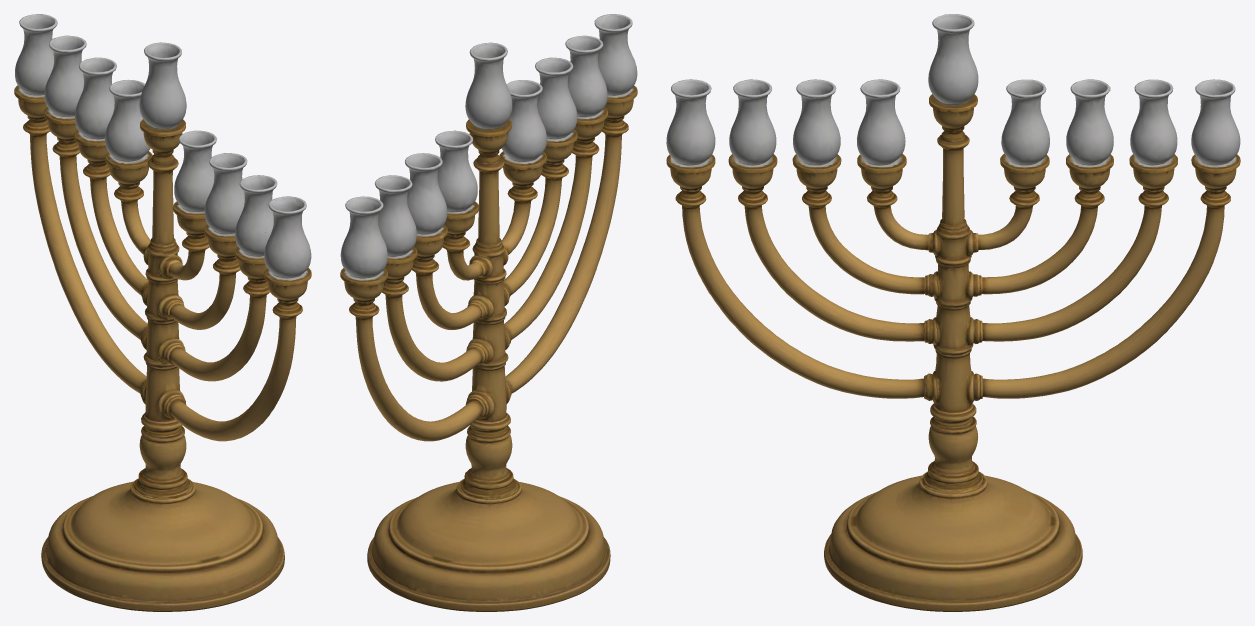
Rendered from lt_menorah_b.glb.
3 views of the same model, side by side, from view 1: azimuth 30°, elevation 25°; view 2: azimuth 150°, elevation 25°; view 3: azimuth 270°, elevation 25° (orthographic). The views are drawn at different scales.
Parts seen in each view (by area): view 1: tripo_node_e73b7925-1886-4f33-9c2c-f6aadbd85813; view 2: tripo_node_e73b7925-1886-4f33-9c2c-f6aadbd85813; view 3: tripo_node_e73b7925-1886-4f33-9c2c-f6aadbd85813.
Part boxes in pixels (x1,y1,x2,y2): tripo_node_e73b7925-1886-4f33-9c2c-f6aadbd85813: [14, 14, 311, 611]; tripo_node_e73b7925-1886-4f33-9c2c-f6aadbd85813: [340, 14, 637, 611]; tripo_node_e73b7925-1886-4f33-9c2c-f6aadbd85813: [666, 14, 1240, 611].
Bounding box in the file's own units: 0.4319 × 1 × 0.9681.
Materials: 1 (1 with a texture image).
